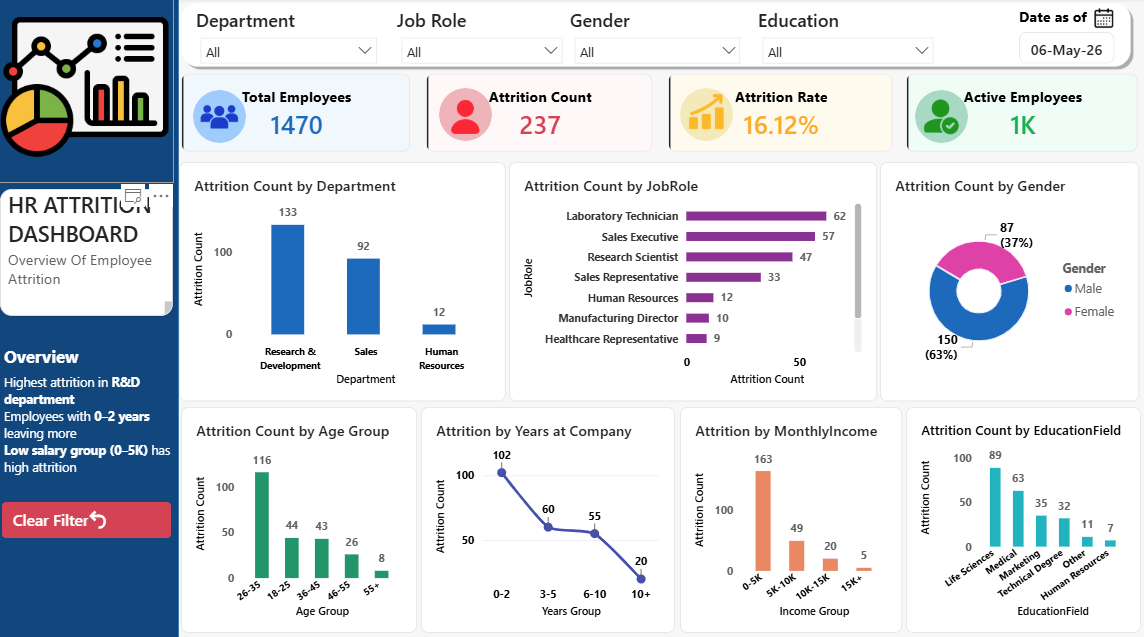

The dashboard page shown, as its layout file describes it:
{"tool":"powerbi","page":{"name":"Page 1","canvas":[1280,720],"ordinal":0},"visuals":[{"type":"shape","box":[202.2,7.8,1064.4,81.1],"z":0},{"type":"shape","box":[0,0,204.4,721.1],"z":1000},{"type":"textbox","title":"HR ATTRITION DASHBOARD","box":[5.6,220,192.2,141.1],"z":2000},{"type":"slicer","title":"Department","fields":{"Values":["HrDataset.Department"]},"box":[223.2,17.8,205.6,63.3],"z":3000},{"type":"slicer","title":"Job Role","fields":{"Values":["HrDataset.JobRole"]},"box":[446.6,17.8,188.9,63.3],"z":4000},{"type":"slicer","title":"Gender","fields":{"Values":["HrDataset.Gender"]},"box":[638.8,17.8,194.4,63.3],"z":5000},{"type":"slicer","title":"Education","fields":{"Values":["HrDataset.Education"]},"box":[847.7,17.8,200,63.3],"z":6000},{"type":"cardVisual","fields":{"Data":["HrDataset.Total Employees"]},"box":[206.7,91.1,255.6,88.9],"z":7000},{"type":"cardVisual","fields":{"Data":["HrDataset.Attrition Count"]},"box":[478.9,91.1,252.2,88.9],"z":8000},{"type":"cardVisual","fields":{"Data":["HrDataset.Attrition Rate"]},"box":[747.8,91.1,250,88.9],"z":9000},{"type":"cardVisual","fields":{"Data":["HrDataset.Active Employees"]},"box":[1012.2,91.1,258.9,88.9],"z":10000},{"type":"clusteredColumnChart","fields":{"Category":["HrDataset.Department"],"Y":["HrDataset.Attrition Count"]},"box":[204.4,190,363.3,265.6],"z":11000},{"type":"clusteredBarChart","fields":{"Category":["HrDataset.JobRole"],"Y":["HrDataset.Attrition Count"]},"box":[571.1,190,408.9,265.6],"z":12000},{"type":"donutChart","fields":{"Category":["HrDataset.Gender"],"Y":["HrDataset.Attrition Count"]},"box":[983.3,190,287.8,265.6],"z":13000},{"type":"clusteredColumnChart","fields":{"Category":["HrDataset.Age Group"],"Y":["HrDataset.Attrition Count"]},"box":[206.7,462.3,262.2,251.1],"z":14000},{"type":"lineChart","title":"Attrition by Years at Company","fields":{"Category":["HrDataset.Years Group"],"Y":["HrDataset.Attrition Count"]},"box":[473.3,462.3,282.2,251.1],"z":15000},{"type":"columnChart","title":" Attrition by MonthlyIncome","fields":{"Category":["HrDataset.Income Group"],"Y":["HrDataset.Attrition Count"]},"box":[761.1,462.3,246.7,251.1],"z":16000},{"type":"clusteredColumnChart","fields":{"Category":["HrDataset.EducationField"],"Y":["HrDataset.Attrition Count"]},"box":[1012.2,462.3,261.1,251.1],"z":17000},{"type":"textbox","box":[10,393.3,104.4,31.1],"z":18000},{"type":"image","box":[0,0,198.9,213.3],"z":19000},{"type":"textbox","box":[10,424.4,187.8,127.8],"z":20000},{"type":"actionButton","box":[7.8,567.8,187.8,40],"z":21000},{"type":"shape","box":[220,110,58.9,58.9],"z":22000},{"type":"shape","box":[493.3,107.8,58.9,58.9],"z":23000},{"type":"shape","box":[761.1,107.8,58.9,58.9],"z":24000},{"type":"shape","box":[1022.2,110,58.9,58.9],"z":25000},{"type":"image","box":[227.8,113.3,43.3,53.3],"z":26000},{"type":"image","box":[768.9,107.8,43.3,53.3],"z":27000},{"type":"image","box":[501.1,113.3,43.3,53.3],"z":28000},{"type":"image","box":[1030,113.3,43.3,53.3],"z":29000},{"type":"textbox","box":[1137.7,17.8,86.7,27.8],"z":30000},{"type":"cardVisual","fields":{"Data":["HrDataset.dateb"]},"box":[1137.7,45.6,106.7,35.6],"z":31000},{"type":"image","box":[1219.9,15.6,24.4,28.9],"z":32000}]}

Visuals, with their boxes in screenshot pixels (x1, y1, x2, y2), scaled from the page's 1280x720 canvas onto the 1144x637 screenshot:
shape: [181, 7, 1132, 79]
shape: [0, 0, 183, 636]
"HR ATTRITION DASHBOARD" textbox: [5, 195, 177, 319]
"Department" slicer: [199, 16, 383, 72]
"Job Role" slicer: [399, 16, 568, 72]
"Gender" slicer: [571, 16, 745, 72]
"Education" slicer: [758, 16, 936, 72]
cardVisual - HrDataset.Total Employees: [185, 81, 413, 159]
cardVisual - HrDataset.Attrition Count: [428, 81, 653, 159]
cardVisual - HrDataset.Attrition Rate: [668, 81, 892, 159]
cardVisual - HrDataset.Active Employees: [905, 81, 1136, 159]
clusteredColumnChart - HrDataset.Department x HrDataset.Attrition Count: [183, 168, 507, 403]
clusteredBarChart - HrDataset.JobRole x HrDataset.Attrition Count: [510, 168, 876, 403]
donutChart - HrDataset.Gender x HrDataset.Attrition Count: [879, 168, 1136, 403]
clusteredColumnChart - HrDataset.Age Group x HrDataset.Attrition Count: [185, 409, 419, 631]
"Attrition by Years at Company" lineChart: [423, 409, 675, 631]
" Attrition by MonthlyIncome" columnChart: [680, 409, 901, 631]
clusteredColumnChart - HrDataset.EducationField x HrDataset.Attrition Count: [905, 409, 1138, 631]
textbox: [9, 348, 102, 375]
image: [0, 0, 178, 189]
textbox: [9, 375, 177, 489]
actionButton: [7, 502, 175, 538]
shape: [197, 97, 249, 149]
shape: [441, 95, 494, 147]
shape: [680, 95, 733, 147]
shape: [914, 97, 966, 149]
image: [204, 100, 242, 147]
image: [687, 95, 726, 143]
image: [448, 100, 487, 147]
image: [921, 100, 959, 147]
textbox: [1017, 16, 1094, 40]
cardVisual - HrDataset.dateb: [1017, 40, 1112, 72]
image: [1090, 14, 1112, 39]
